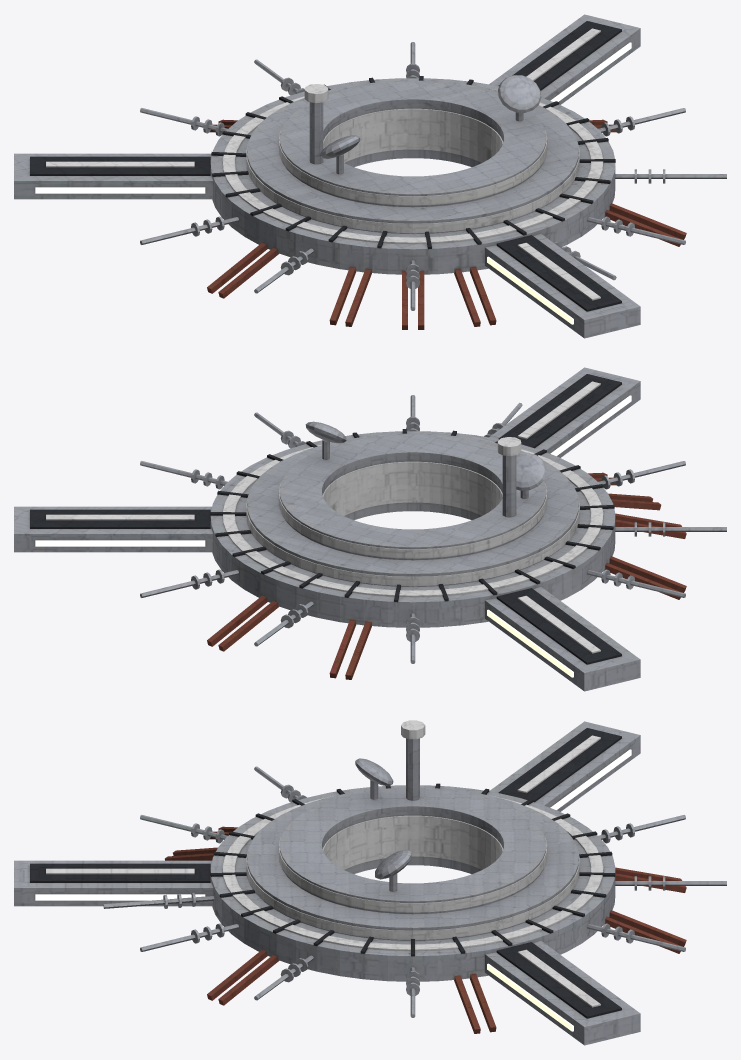
The model's file is empire-dock-3.glb.
3 views of the same model, one above another, from view 1: azimuth 30°, elevation 25°; view 2: azimuth 150°, elevation 25°; view 3: azimuth 270°, elevation 25° (orthographic).
Visible parts, largest first — view 1: DockEmp3; view 2: DockEmp3; view 3: DockEmp3.
Boxes of the visible parts, x1,y1,x2,y2 form: DockEmp3: [14, 14, 726, 338]; DockEmp3: [14, 367, 726, 691]; DockEmp3: [14, 720, 726, 1045].
Size of the model in its own units: 3.57 by 0.7994 by 3.52.
5 materials, 5 textured.
